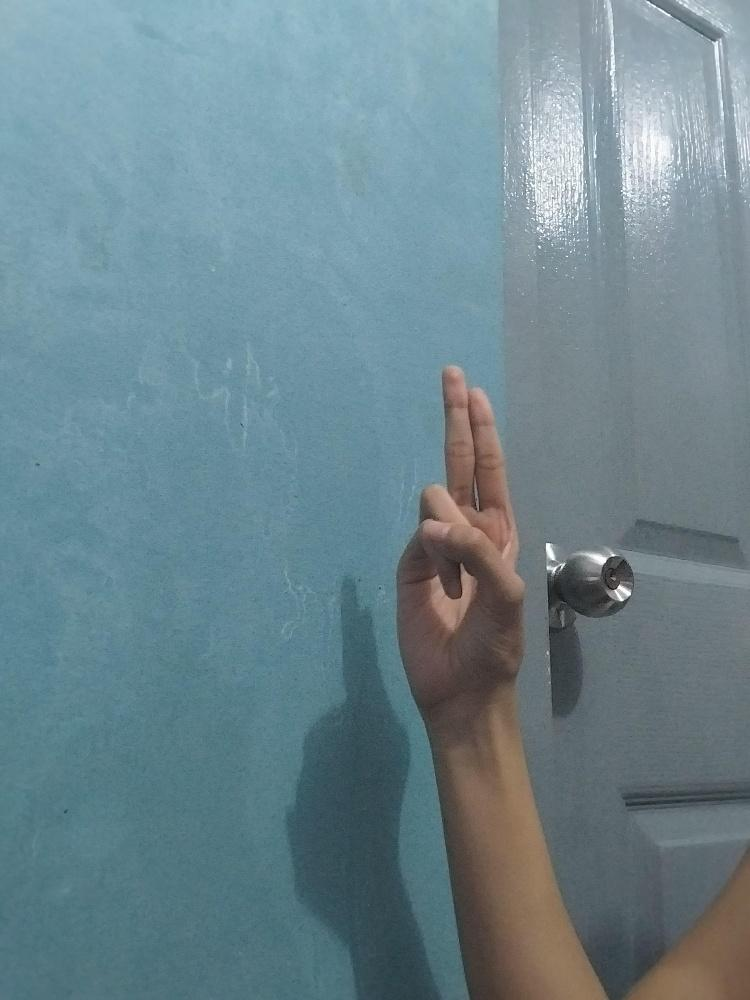u: (393, 361, 526, 698)
